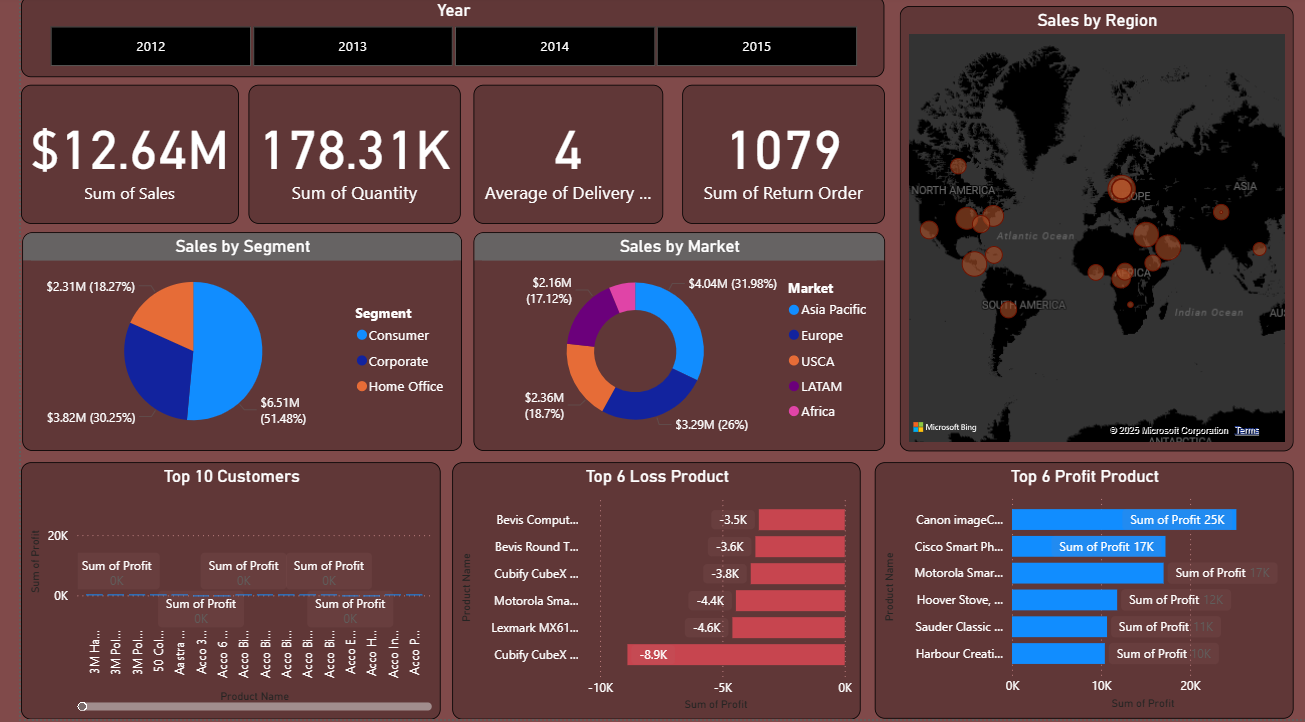

The page's visual inventory and layout, read from the dashboard file:
{"tool":"powerbi","page":{"name":"Page 1","canvas":[1280,720],"ordinal":0},"visuals":[{"type":"card","fields":{"Values":["Sum(Orders.Sales)"]},"box":[0,88.3,216.4,138.1],"z":0},{"type":"card","fields":{"Values":["Sum(Orders.Quantity)"]},"box":[226.4,88.3,211.5,138.1],"z":1000},{"type":"card","fields":{"Values":["Avg(Orders.Delivery Days)"]},"box":[450.3,88.3,189.1,138.1],"z":2000},{"type":"slicer","title":"Year","fields":{"Values":["Orders.Year"]},"box":[0,0,859.6,80.9],"z":3000},{"type":"card","fields":{"Values":["Sum(Returns.Return Order)"]},"box":[658.1,88.3,201.5,138.1],"z":4000},{"type":"barChart","title":"Top 6 Profit  Product","fields":{"Y":["Sum(Orders.Profit)"],"Category":["Orders.Product Name"]},"box":[849.6,464,416.7,255],"z":5000},{"type":"barChart","title":"Top 6 Loss Product ","fields":{"Y":["Sum(Orders.Profit)"],"Category":["Orders.Product Name"]},"box":[429.2,464,406.8,256.3],"z":6000},{"type":"pieChart","title":"Sales by Segment","fields":{"Category":["Orders.Segment"],"Y":["Sum(Orders.Sales)"]},"box":[1.2,235.1,437.9,217.7],"z":7000},{"type":"map","title":"Sales by Region","fields":{"Category":["Orders.Region"],"Size":["Sum(Orders.Profit)"]},"box":[874.5,10,391.8,442.8],"z":8000},{"type":"donutChart","title":" Sales by Market","fields":{"Y":["Sum(Orders.Sales)"],"Category":["Orders.Market"]},"box":[450.3,235.1,409.3,217.7],"z":9000},{"type":"columnChart","title":"Top 10 Customers ","fields":{"Category":["Orders.Product Name","Orders.Customer Name"],"Y":["Sum(Orders.Profit)"]},"box":[0,464,418,256.3],"z":10000}]}

Visuals, with their boxes in screenshot pixels (x1, y1, x2, y2), scaled from the page's 1280x720 canvas onto the 1305x722 screenshot:
card - Sum(Orders.Sales): Rect(0, 89, 221, 227)
card - Sum(Orders.Quantity): Rect(231, 89, 446, 227)
card - Avg(Orders.Delivery Days): Rect(459, 89, 652, 227)
"Year" slicer: Rect(0, 0, 876, 81)
card - Sum(Returns.Return Order): Rect(671, 89, 876, 227)
"Top 6 Profit  Product" barChart: Rect(866, 465, 1291, 721)
"Top 6 Loss Product " barChart: Rect(438, 465, 852, 721)
"Sales by Segment" pieChart: Rect(1, 236, 448, 454)
"Sales by Region" map: Rect(892, 10, 1291, 454)
" Sales by Market" donutChart: Rect(459, 236, 876, 454)
"Top 10 Customers " columnChart: Rect(0, 465, 426, 721)
